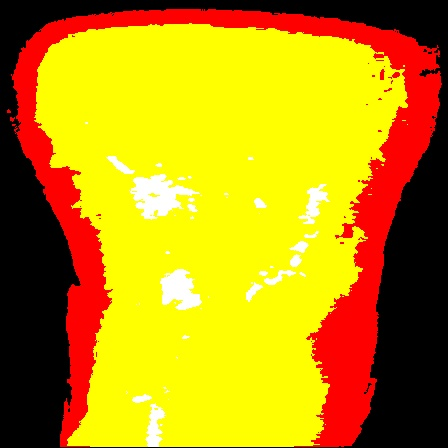coin_1: (74, 277, 94, 297)
coin_2: (26, 163, 46, 183)
coin_3: (390, 241, 410, 261)
coin_4: (445, 131, 448, 151)
